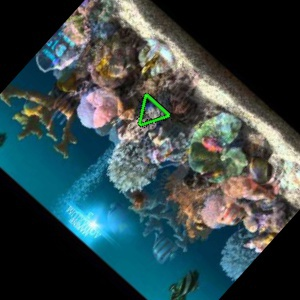triangle: (136, 91, 172, 128)
